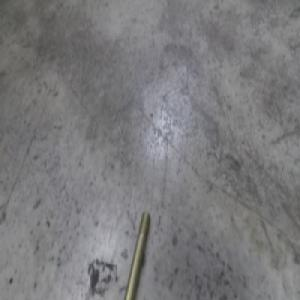Bolt: (123, 212, 150, 299)
